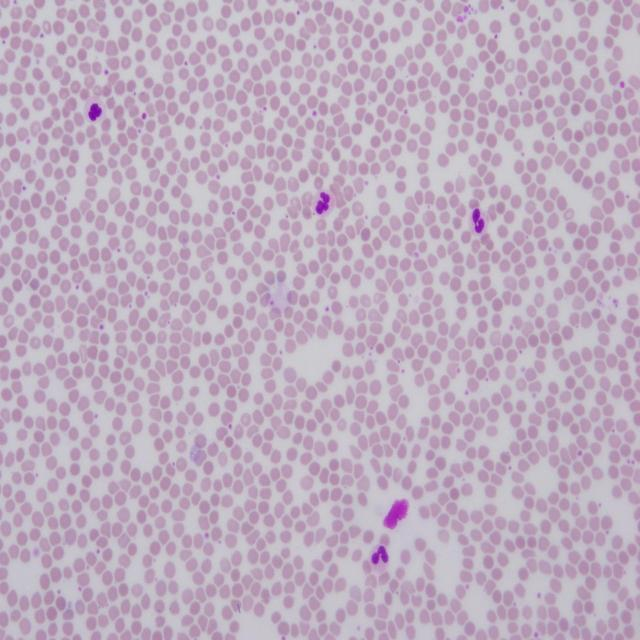cell: (312, 190, 335, 217), (369, 544, 389, 573), (84, 96, 105, 121), (470, 207, 489, 234)
